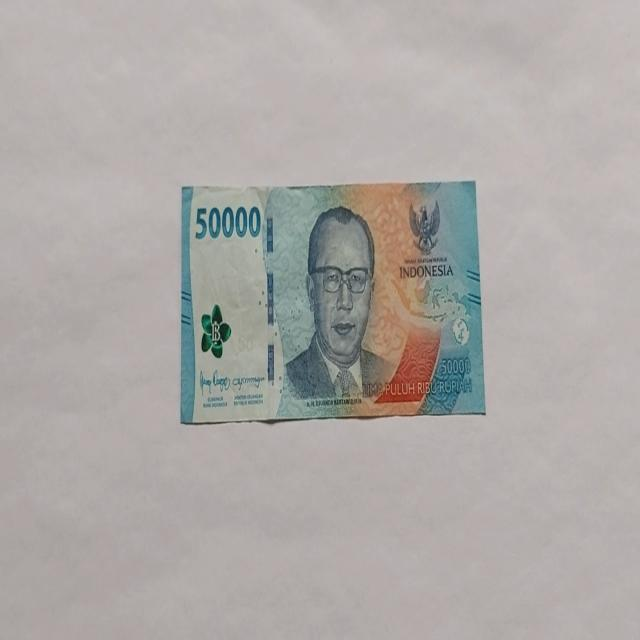lima puluh ribu rupiah: (180, 179, 486, 425), (280, 204, 394, 408)
